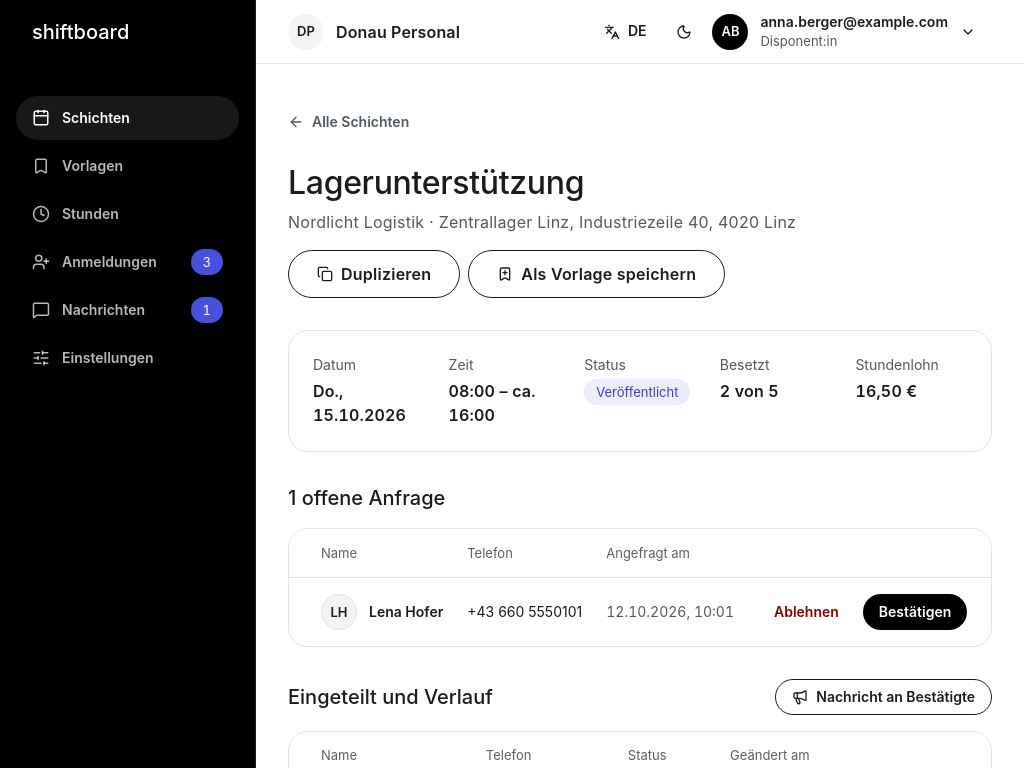
Test: shift detail › approves a request and moves it to the team
The image size is (1024, 768).
What coordinates should you click on to do the following:
click the button with aria-label "Lena Hofer bestätigen"
I would click on:
 (915, 612)
Its box is top-left (863, 594), bottom-right (967, 630).
(page scrolled)
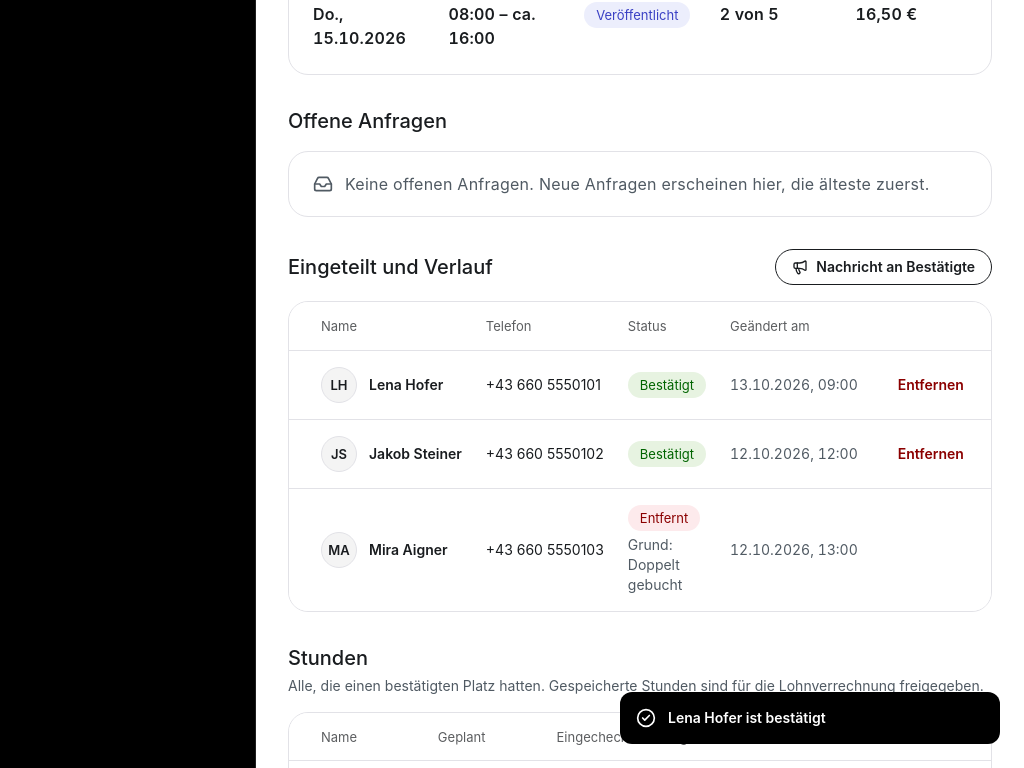
Expected: the text "Lena Hofer ist bestätigt" is shown, top-left (668, 708), bottom-right (826, 728)
Expected: the element "Offene Anfragen" is shown, top-left (288, 107), bottom-right (992, 217)
Expected: the text "Bestätigt" in the row of "LH" is shown, top-left (640, 376), bottom-right (694, 392)
